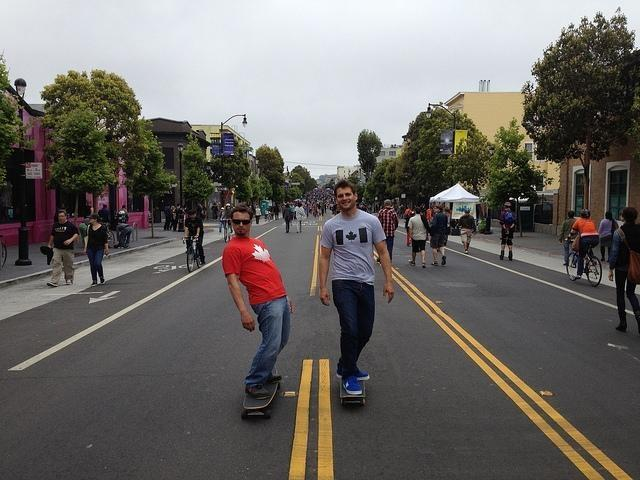bicycle: (564, 238, 604, 287), (182, 236, 202, 272), (0, 232, 9, 270), (102, 224, 116, 247), (222, 218, 234, 243)
